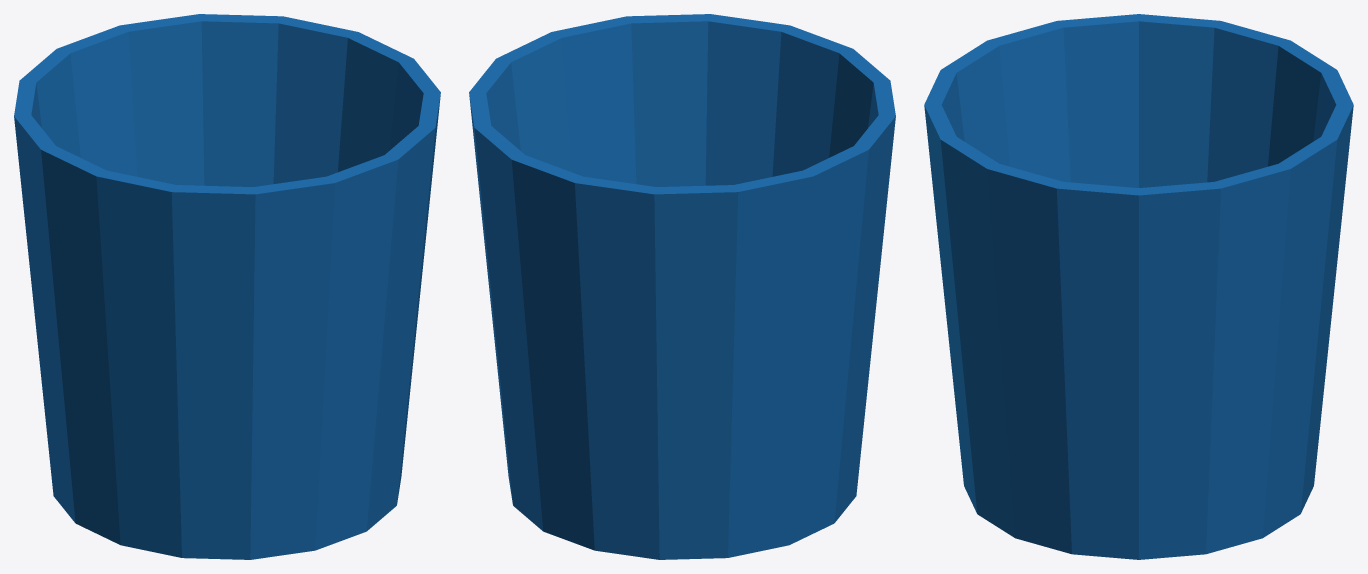
File: Prop_TrashCan_01.fbx
The picture shows the model from 3 angles, left to right: view 1: azimuth 30°, elevation 25°; view 2: azimuth 150°, elevation 25°; view 3: azimuth 270°, elevation 25°; orthographic projection.
Parts seen in each view (by area): view 1: Prop_TrashCan_01; view 2: Prop_TrashCan_01; view 3: Prop_TrashCan_01.
Boxes of the visible parts, x1,y1,x2,y2 form: Prop_TrashCan_01: [14, 14, 440, 559]; Prop_TrashCan_01: [469, 14, 895, 559]; Prop_TrashCan_01: [924, 14, 1353, 559].
Size of the model in its own units: 39.38 by 38.56 by 39.38.
